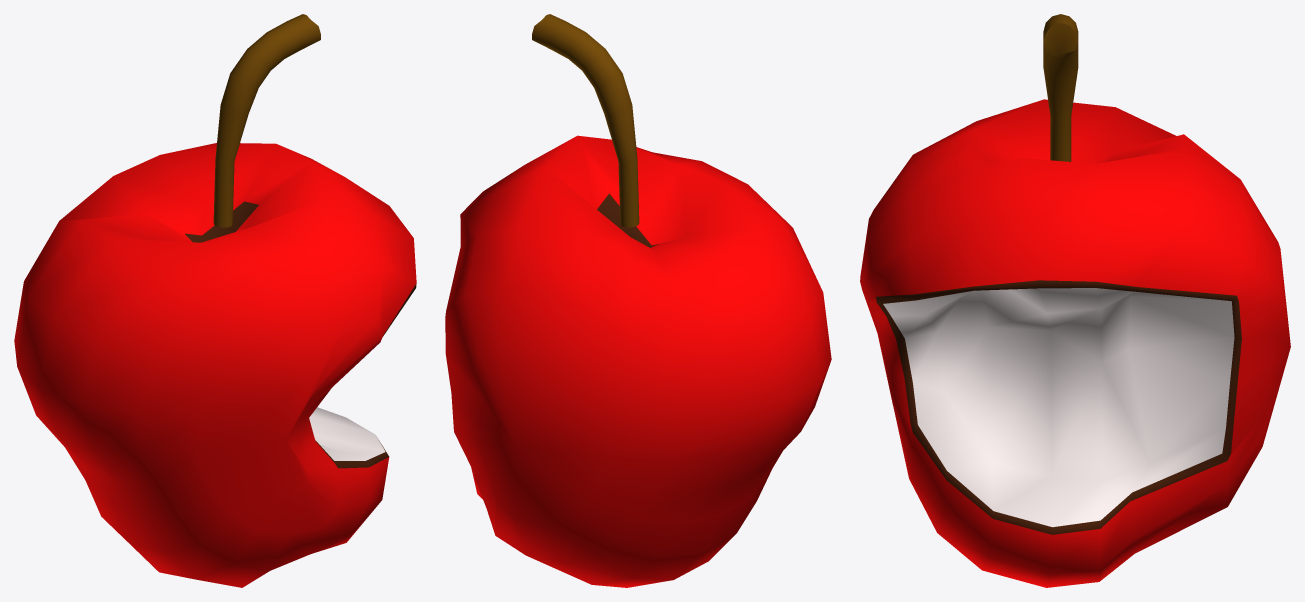
The model's file is APPLE CORE03.FBX.
3 views of the same model, side by side, from view 1: azimuth 30°, elevation 25°; view 2: azimuth 150°, elevation 25°; view 3: azimuth 270°, elevation 25° (orthographic). The views are drawn at different scales.
Visible parts, largest first — view 1: Sphere001, Line001; view 2: Sphere001, Line001; view 3: Sphere001, Line001.
Boxes of the visible parts, x1,y1,x2,y2 form: Sphere001: (14,143,416,587); Line001: (213,14,320,227); Sphere001: (445,135,831,587); Line001: (532,14,639,227); Sphere001: (860,99,1290,587); Line001: (1043,14,1078,161).
Size of the model in its own units: 105 by 155 by 104.
